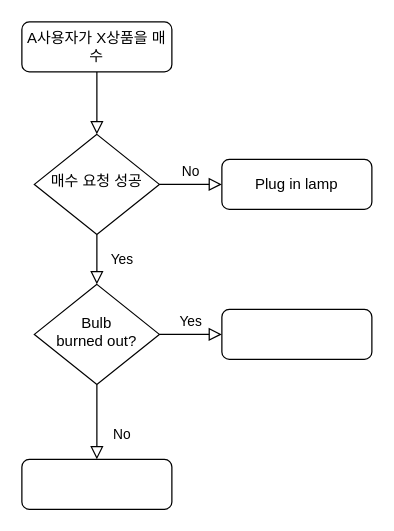
Some shapes in this 394 by 531 pixel diagram are drawn without their labels. The box of each missing label's shape, as (x1, y1, x2, y2) in pixels:
Repair Lamp: (21, 458, 172, 509)
Replace Bulb: (221, 308, 372, 359)
